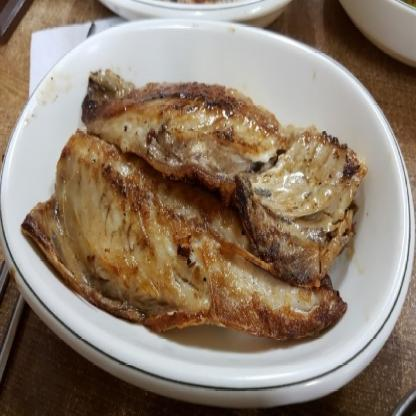Peixe: (7, 41, 390, 372)
